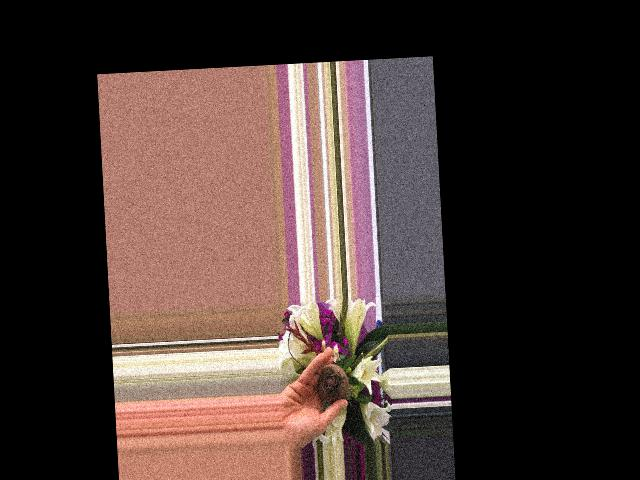beet: (315, 362, 349, 403)
